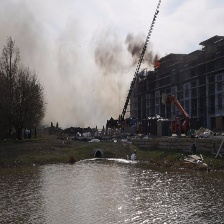smoke: (1, 25, 167, 124)
